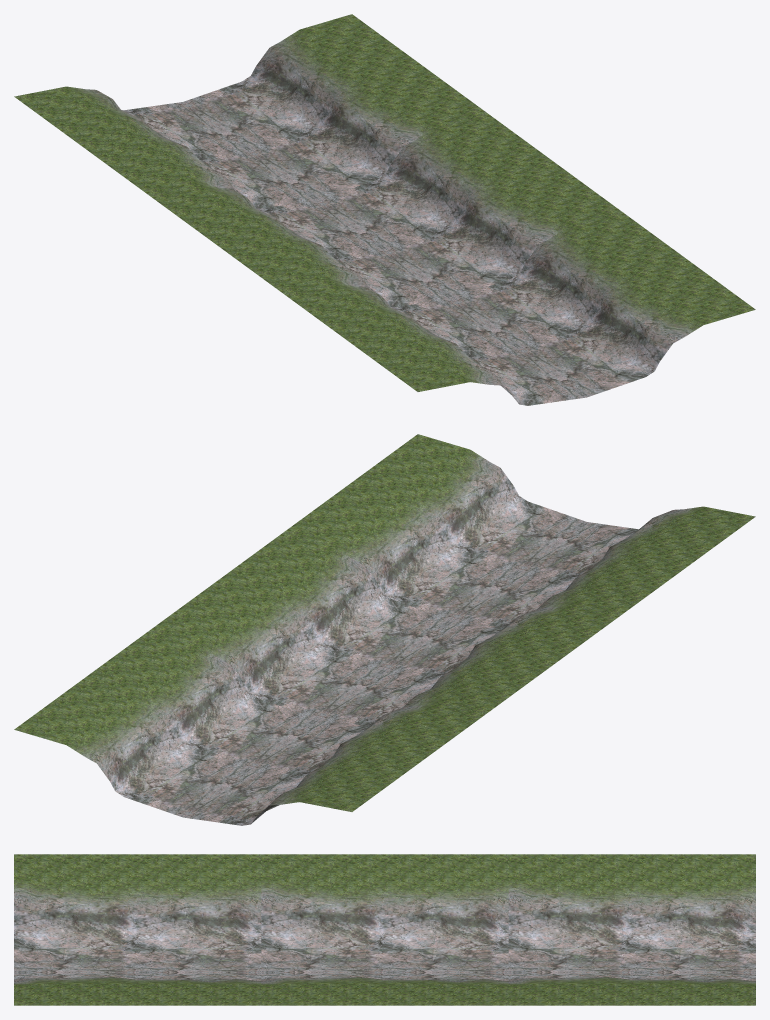
Rendered from RioB rev1.obj.
The picture shows the model from 3 angles, top to bottom: view 1: azimuth 30°, elevation 25°; view 2: azimuth 150°, elevation 25°; view 3: azimuth 270°, elevation 25°; orthographic projection. The views are drawn at different scales.
Visible parts, largest first — view 1: Plane; view 2: Plane; view 3: Plane.
Boxes of the visible parts, x1,y1,x2,y2 form: Plane: (14, 14, 755, 405); Plane: (14, 434, 755, 825); Plane: (14, 854, 755, 1005).
Size of the model in its own units: 14.5 by 1.91 by 30.
